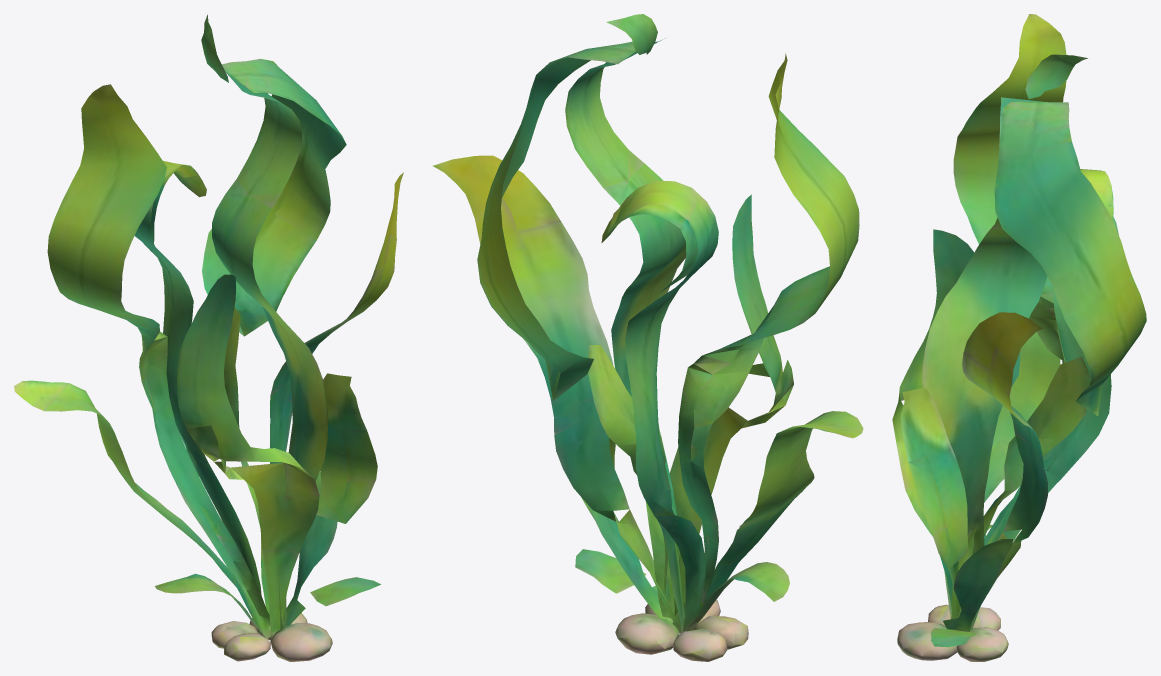
The model's file is alga_1_1500.glb.
3 views of the same model, side by side, from view 1: azimuth 30°, elevation 25°; view 2: azimuth 150°, elevation 25°; view 3: azimuth 270°, elevation 25° (orthographic). The views are drawn at different scales.
Parts seen in each view (by area): view 1: alga_1_malla; view 2: alga_1_malla; view 3: alga_1_malla.
Part boxes in pixels (box(x1,y1,x2,y2)): alga_1_malla: box(14, 14, 403, 661); alga_1_malla: box(433, 14, 863, 661); alga_1_malla: box(892, 14, 1146, 661).
Size of the model in its own units: 0.2852 by 0.4233 by 0.1655.
Materials: 1 (1 with a texture image).
